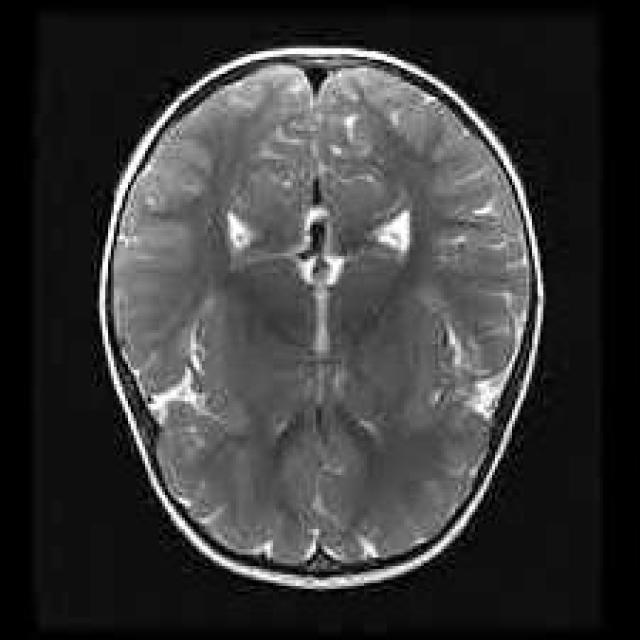notumor: (97, 46, 546, 592)
